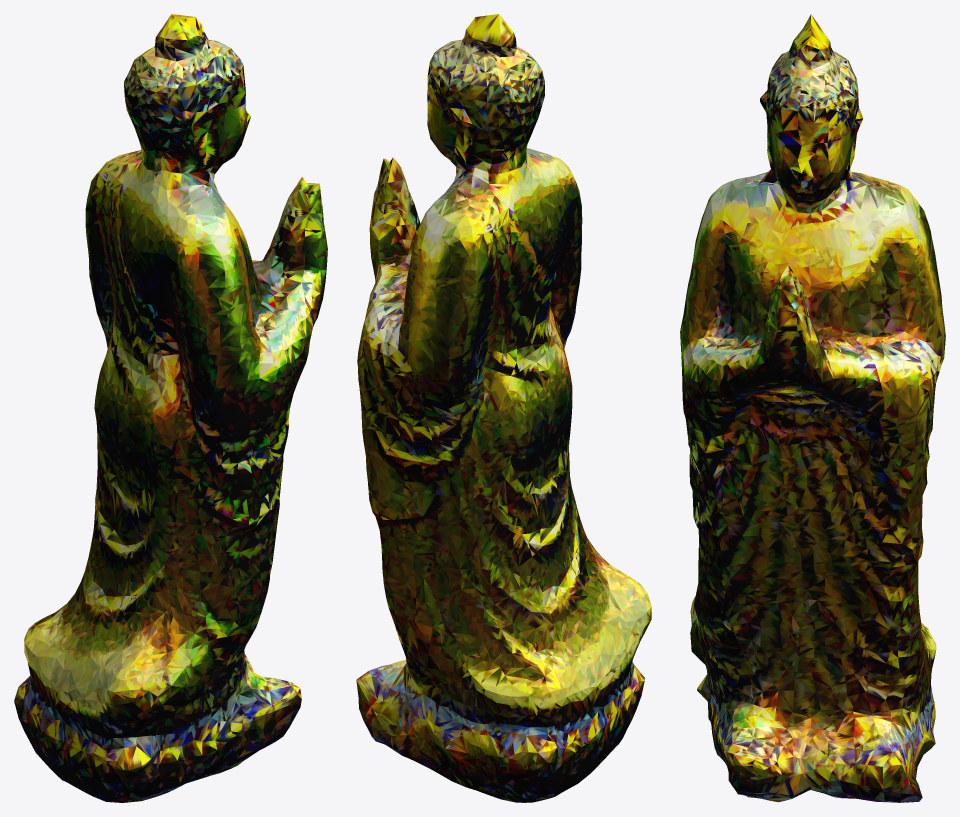
Rendered from buddha-normal.glb.
The picture shows the model from 3 angles, left to right: view 1: azimuth 30°, elevation 25°; view 2: azimuth 150°, elevation 25°; view 3: azimuth 270°, elevation 25°; orthographic projection. The views are drawn at different scales.
Parts seen in each view (by area): view 1: extracted_mesh; view 2: extracted_mesh; view 3: extracted_mesh.
Boxes of the visible parts, left/top/right/bottom form: extracted_mesh: left=14, top=14, right=327, bottom=802; extracted_mesh: left=356, top=14, right=651, bottom=802; extracted_mesh: left=680, top=14, right=945, bottom=802.
Bounding box in the file's own units: 0.395 × 1.18 × 0.3553.
Materials: 1 (1 with a texture image).
